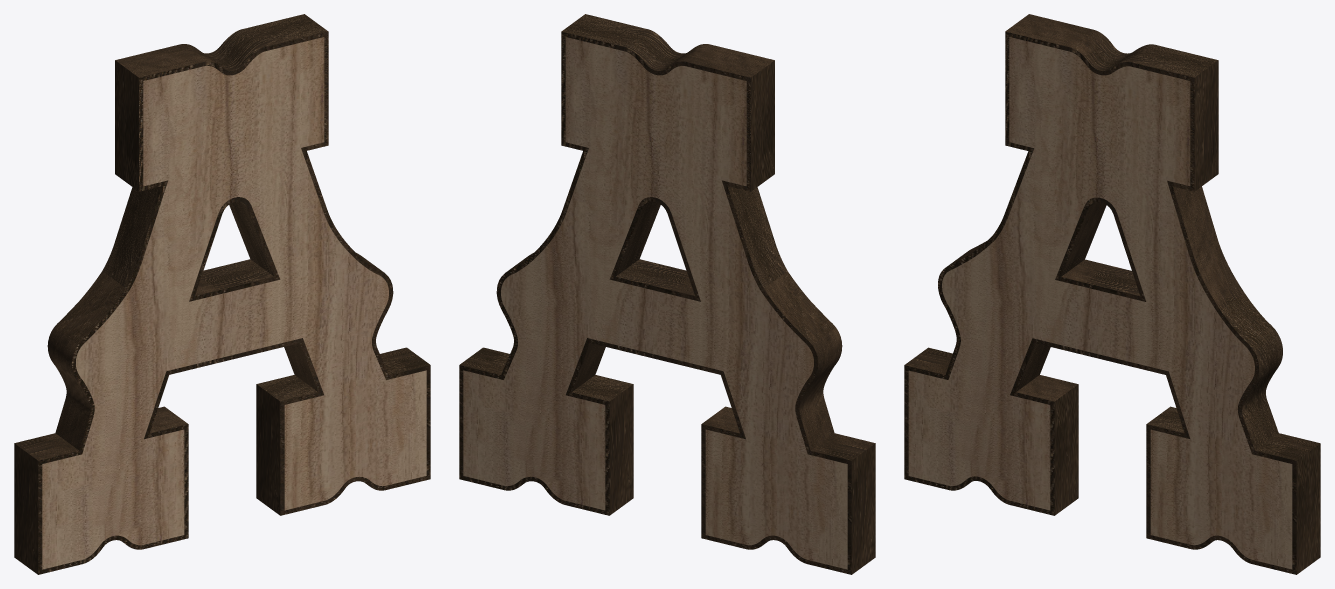
3 views of the same model, side by side, from view 1: azimuth 30°, elevation 25°; view 2: azimuth 150°, elevation 25°; view 3: azimuth 330°, elevation 25° (orthographic).
Parts seen in each view (by area): view 1: A, A_outline; view 2: A, A_outline; view 3: A, A_outline.
Boxes of the visible parts, x1,y1,x2,y2 form: A: (42,37,426,569); A_outline: (14,14,430,574); A: (463,37,847,569); A_outline: (459,14,875,574); A: (908,37,1292,569); A_outline: (904,14,1320,574).
Bounding box in the file's own units: 94.55 × 109 × 10.
2 materials, 2 textured.
